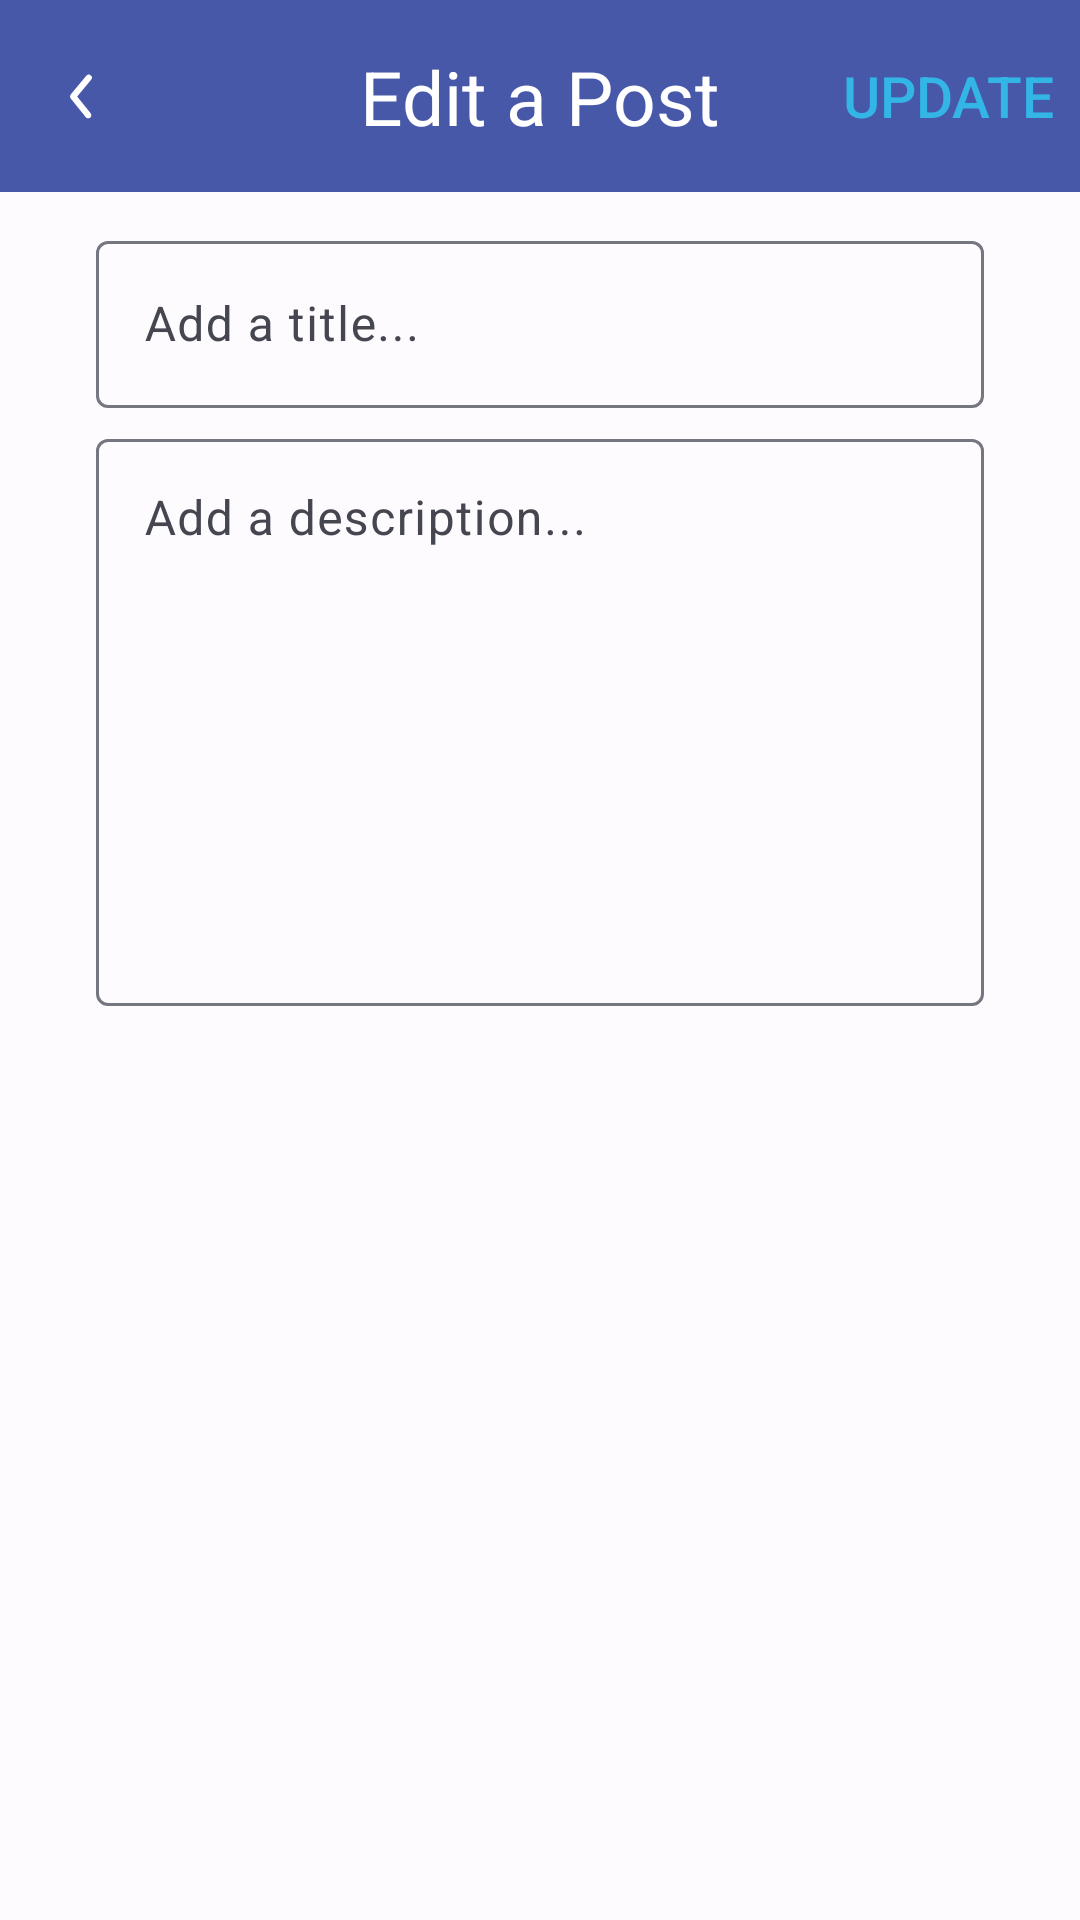

Icons on this 1080px×1920px Android screen, each with the point to tap as [x,y]:
back: [81,96]
